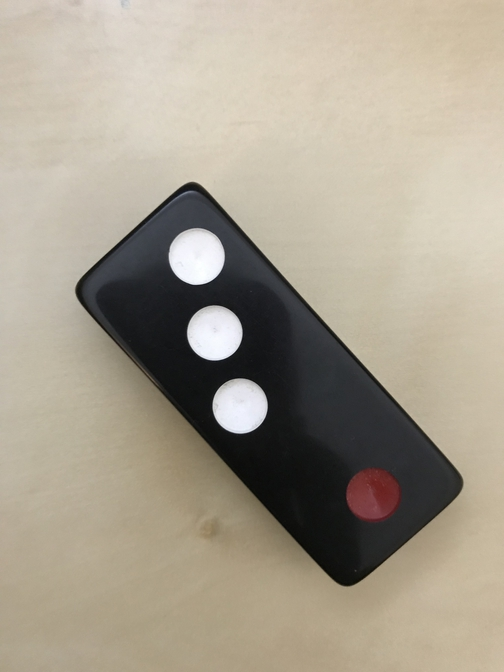goose: (75, 182, 463, 588)
